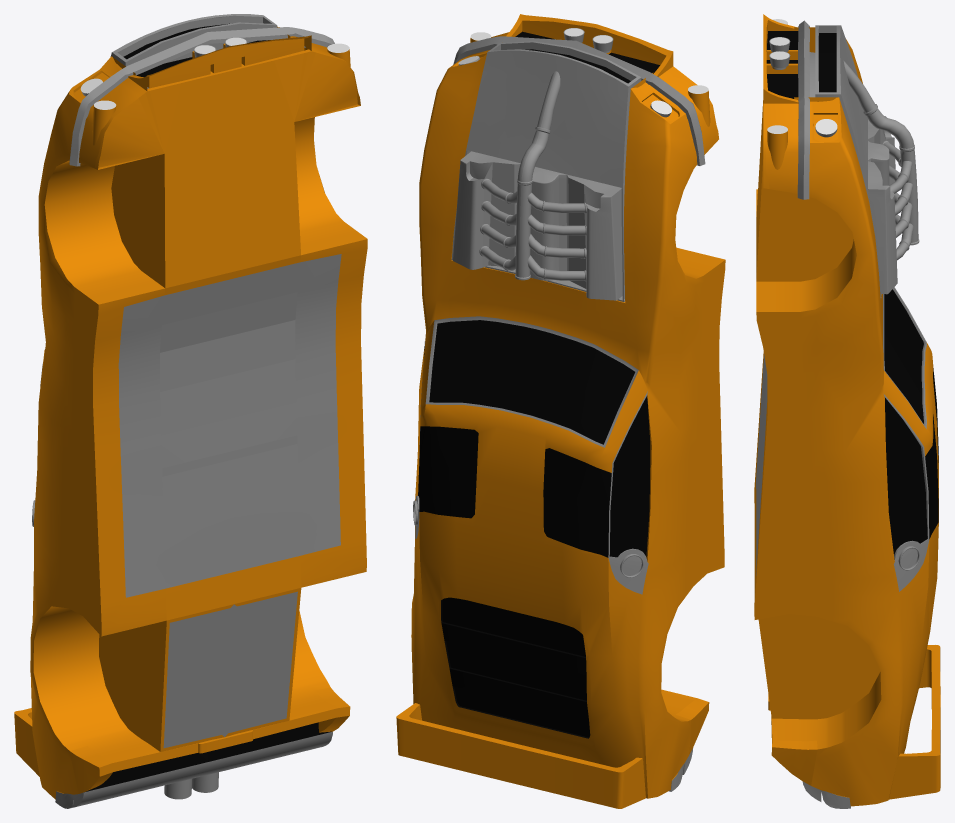
File: Rivited.fbx
The picture shows the model from 3 angles, left to right: view 1: azimuth 30°, elevation 25°; view 2: azimuth 150°, elevation 25°; view 3: azimuth 270°, elevation 25°; orthographic projection. The views are drawn at different scales.
Visible parts, largest first — view 1: Car; view 2: Car; view 3: Car.
Part boxes in pixels (x1,y1,x2,y2): Car: [14, 14, 367, 808]; Car: [396, 14, 725, 808]; Car: [754, 14, 940, 808].
Bounding box in the file's own units: 115 × 307 × 72.13.
